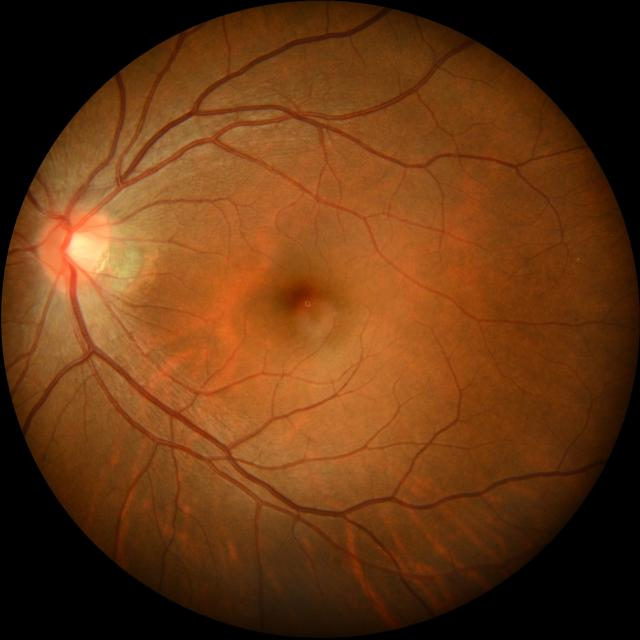OC: (62, 228, 98, 268)
OD: (38, 206, 112, 288)
